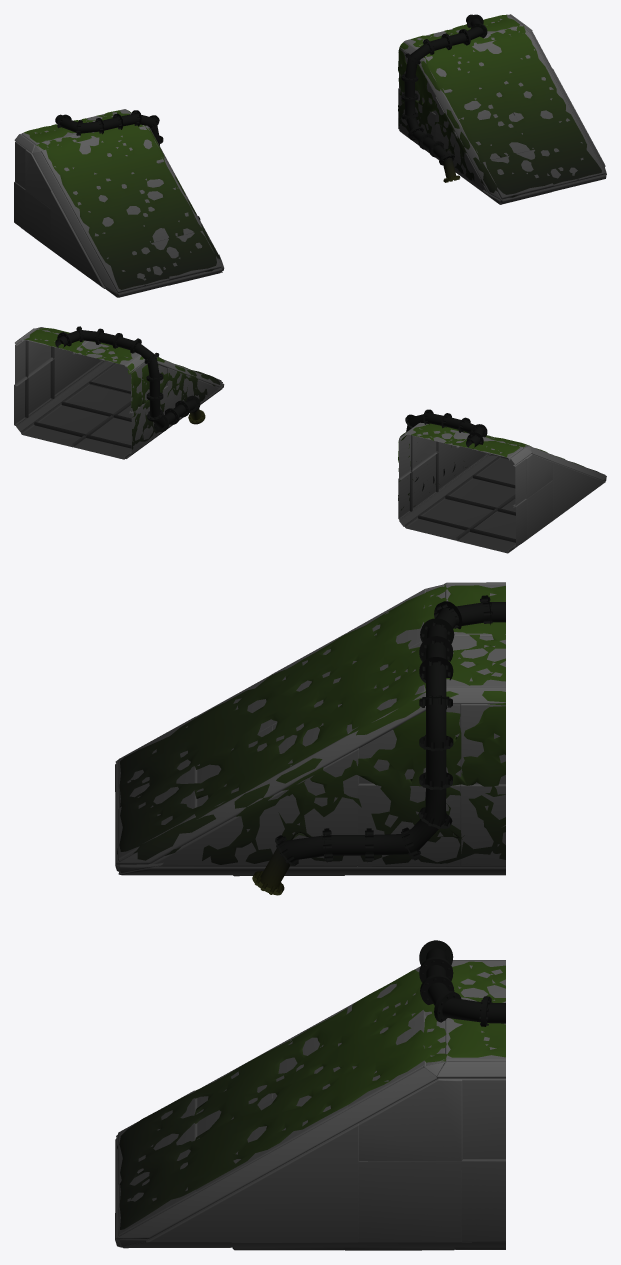
The model's file is SM_Sewer_EXT_Border_01.fbx.
3 views of the same model, one above another, from view 1: azimuth 30°, elevation 25°; view 2: azimuth 150°, elevation 25°; view 3: azimuth 270°, elevation 25° (orthographic). The views are drawn at different scales.
Parts seen in each view (by area): view 1: transform46; view 2: transform46; view 3: transform46.
Part boxes in pixels (bbox=[...]): transform46: bbox=[14, 14, 606, 297]; transform46: bbox=[14, 326, 606, 553]; transform46: bbox=[115, 582, 505, 1250].
Bounding box in the file's own units: 3017 × 631 × 1015.
